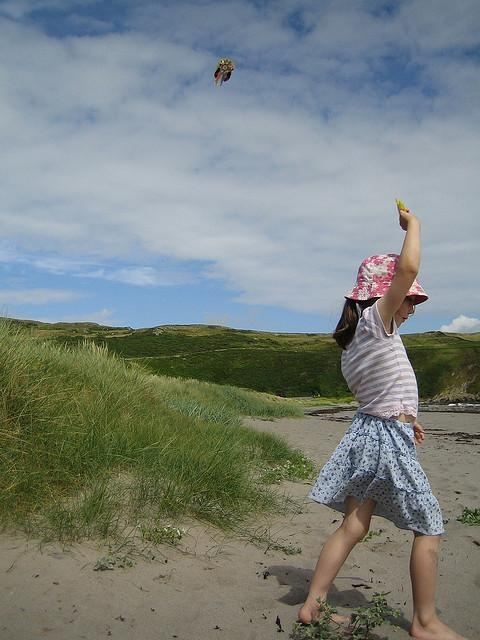person: (296, 197, 472, 640)
